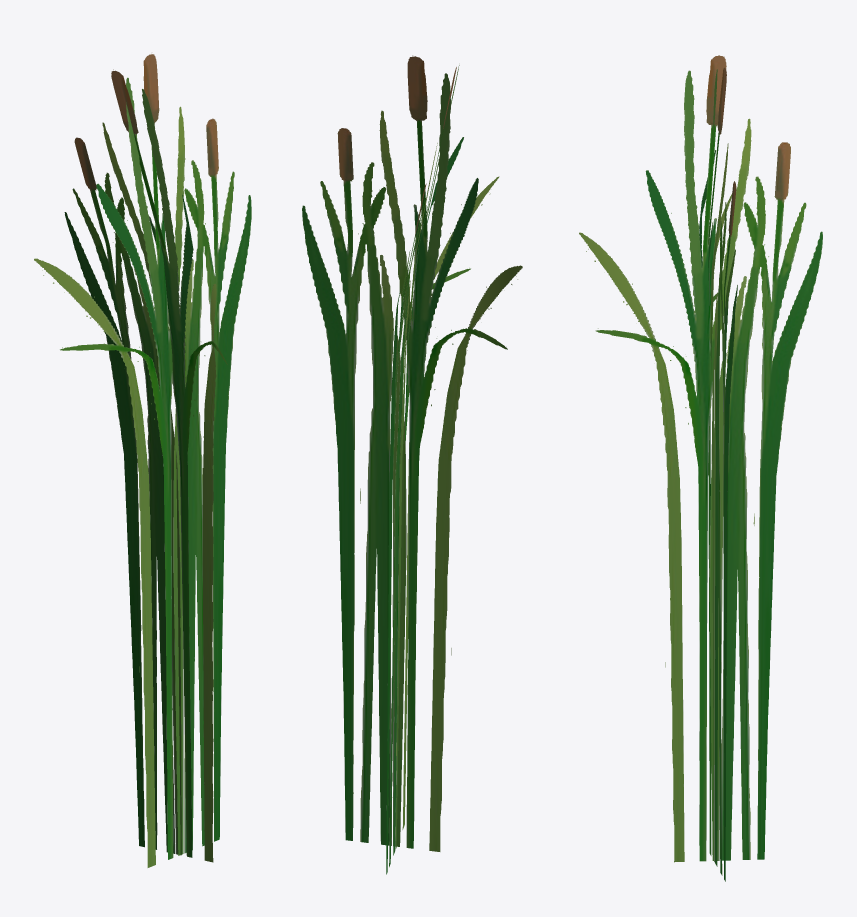
The model's file is RL_Reed_00.FBX.
3 views of the same model, side by side, from view 1: azimuth 30°, elevation 25°; view 2: azimuth 150°, elevation 25°; view 3: azimuth 270°, elevation 25° (orthographic). The views are drawn at different scales.
Parts seen in each view (by area): view 1: RL_Reed_00; view 2: RL_Reed_00; view 3: RL_Reed_00.
Part boxes in pixels (x1,y1,x2,y2): RL_Reed_00: (34, 54, 251, 867); RL_Reed_00: (302, 55, 522, 874); RL_Reed_00: (579, 55, 822, 881).
Size of the model in its own units: 57.12 by 198 by 63.34.
